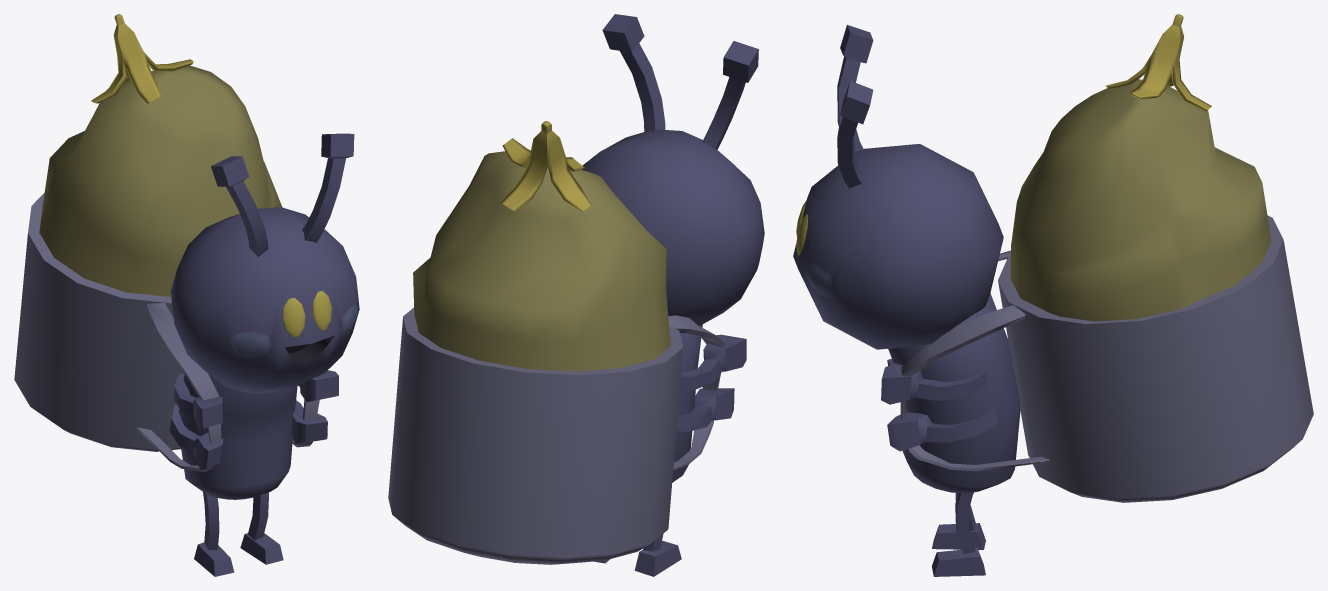
File: Smelly.fbx
The picture shows the model from 3 angles, left to right: view 1: azimuth 30°, elevation 25°; view 2: azimuth 150°, elevation 25°; view 3: azimuth 270°, elevation 25°; orthographic projection. The views are drawn at different scales.
Parts seen in each view (by area): view 1: Mess, Head, Bag, Body, Antennae, Strap, Legs, BananaPeel, Arms1, Arms, eyes; view 2: Bag, Mess, Head, Antennae, BananaPeel, Arms, Arms1, Body, Strap, Legs; view 3: Bag, Mess, Head, Body, Antennae, Strap, Legs, BananaPeel, Arms1, Arms.
Part boxes in pixels (bbox=[...]): Mess: bbox=[39, 65, 282, 296]; Head: bbox=[170, 207, 359, 393]; Bag: bbox=[14, 193, 184, 451]; Body: bbox=[179, 373, 297, 499]; Antennae: bbox=[211, 133, 354, 256]; Strap: bbox=[137, 303, 319, 472]; Legs: bbox=[194, 492, 283, 576]; BananaPeel: bbox=[91, 14, 193, 103]; Arms1: bbox=[169, 400, 327, 469]; Arms: bbox=[174, 370, 338, 429]; eyes: bbox=[282, 291, 331, 337]; Bag: bbox=[388, 308, 683, 564]; Mess: bbox=[413, 151, 670, 371]; Head: bbox=[581, 129, 764, 325]; Antennae: bbox=[602, 14, 758, 149]; BananaPeel: bbox=[501, 121, 591, 211]; Arms: bbox=[679, 334, 746, 390]; Arms1: bbox=[676, 388, 734, 431]; Body: bbox=[672, 324, 702, 482]; Strap: bbox=[668, 315, 724, 471]; Legs: bbox=[594, 533, 681, 576]; Bag: bbox=[998, 215, 1313, 502]; Mess: bbox=[1010, 79, 1271, 321]; Head: bbox=[793, 144, 1003, 349]; Body: bbox=[888, 293, 1020, 493]; Antennae: bbox=[837, 25, 873, 188]; Strap: bbox=[900, 250, 1049, 471]; Legs: bbox=[932, 492, 985, 576]; BananaPeel: bbox=[1105, 14, 1211, 111]; Arms1: bbox=[887, 358, 997, 451]; Arms: bbox=[881, 363, 986, 404].
Bounding box in the file's own units: 90.29 × 184 × 163.
